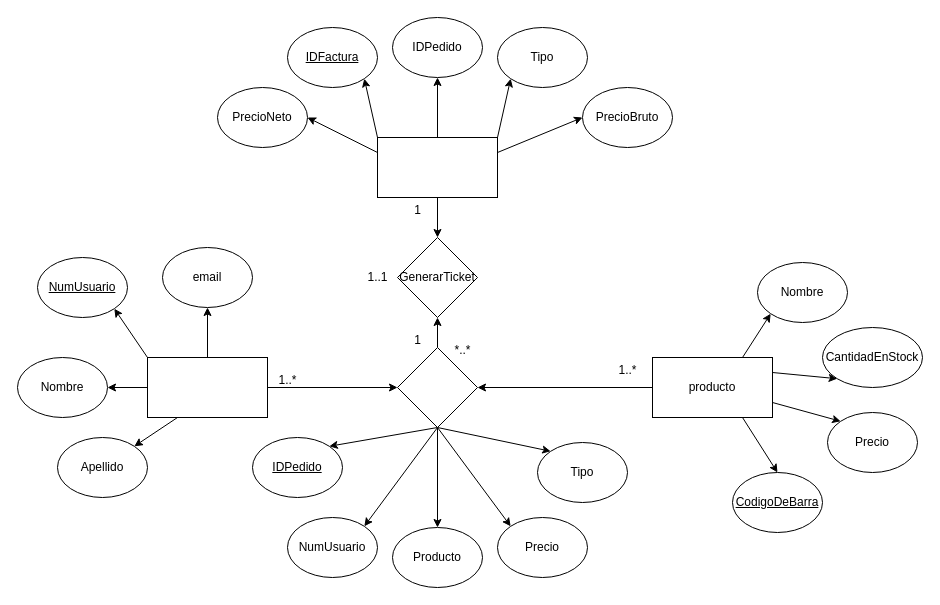
This 940x605 diagram has some shape labels left out. The shapes that lost their labels are listed below. From the top down, each one's box as (x1, y1, x2, y2) in pixels, then its label:
(376, 136, 498, 198): Facturacion
(146, 356, 268, 418): usuario
(396, 346, 478, 428): Comprar
